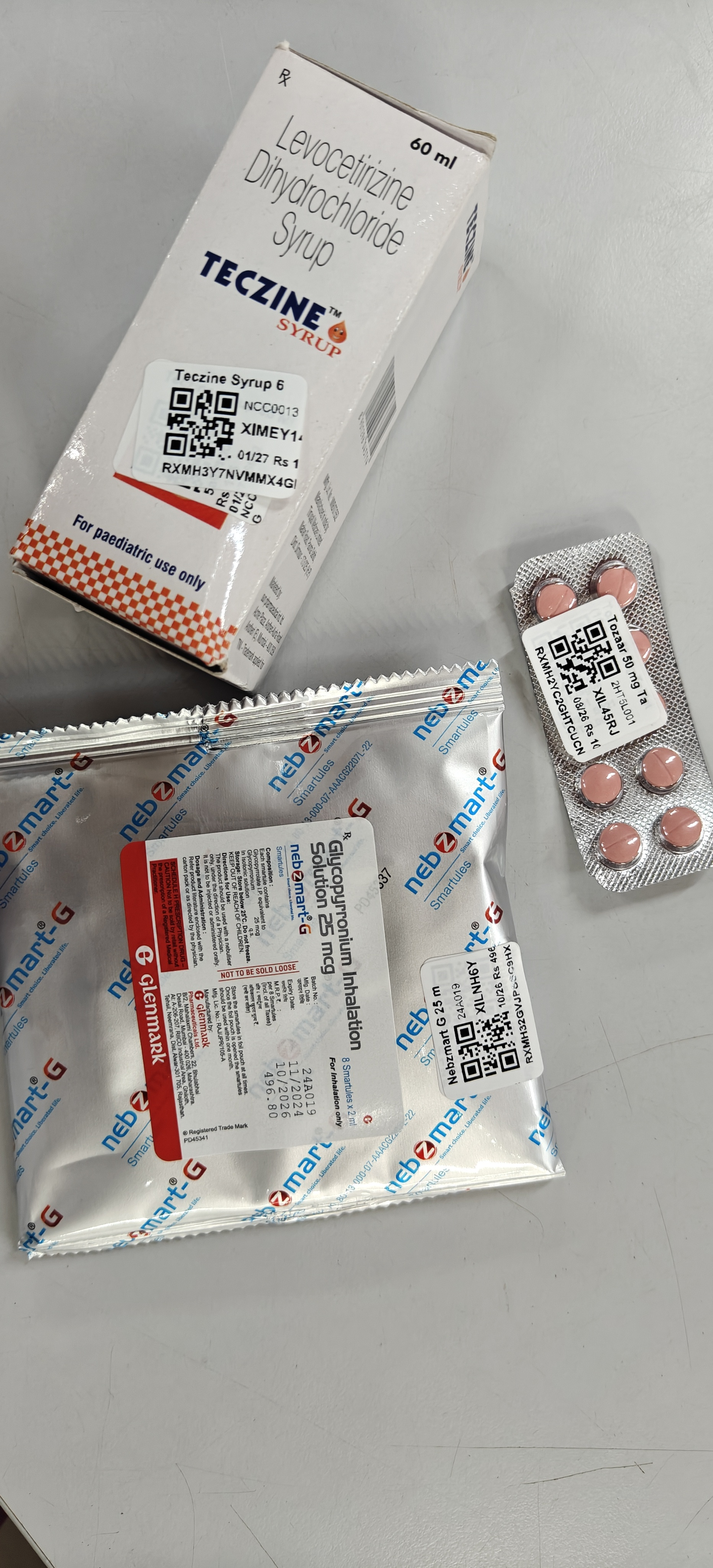qr_code: (163, 387, 239, 461), (547, 619, 620, 695), (454, 1010, 520, 1082)
